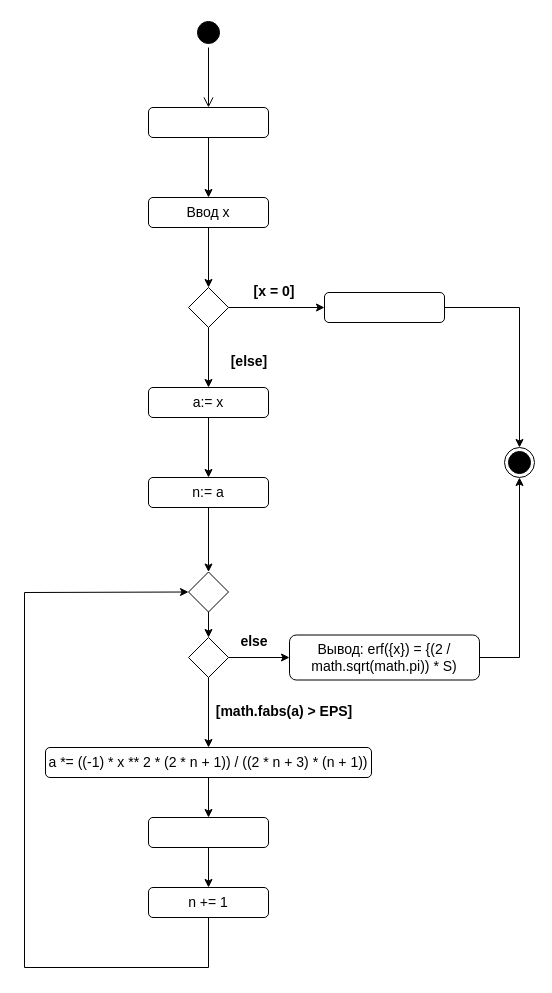
This 552x993 diagram has some shape labels left out. The shapes that lost their labels are listed below. From the top down, each one's centre as x and y in pixels, then its label:
At (208,122): "EPS: = 10 ** -10".
At (384,307): "Вывод: Ошибка!".
At (208,832): "S += a".
